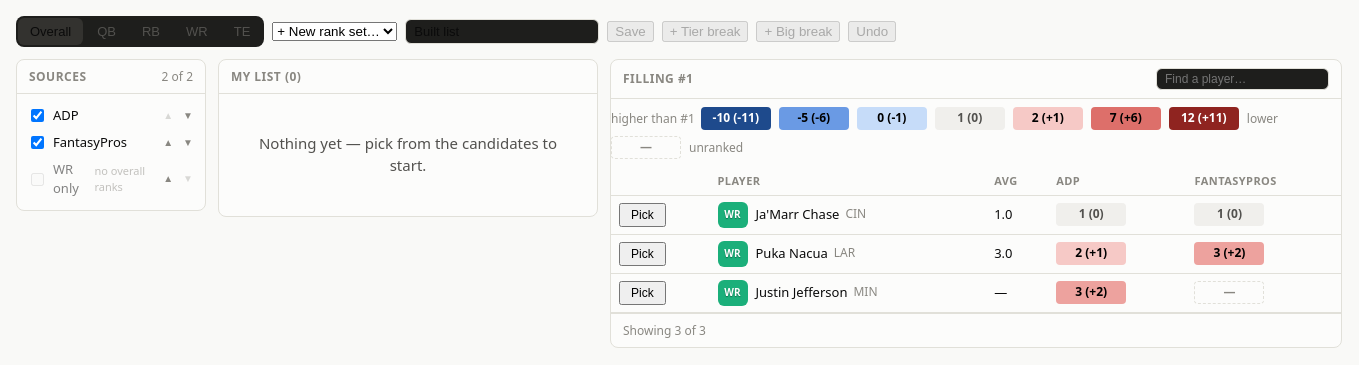
Test: BuildPage › adds a tier break after the last pick from the toolbar
Expected: the text "Ja'Marr Chase" is shown, top-left (756, 204), bottom-right (840, 222)
Expected: the column heading "FantasyPros" is shown, top-left (1186, 167), bottom-right (1341, 195)
Click the button "Pick" in the row of "Ja'Marr Chase".
click(642, 214)  # box top-left (619, 202), bottom-right (666, 226)
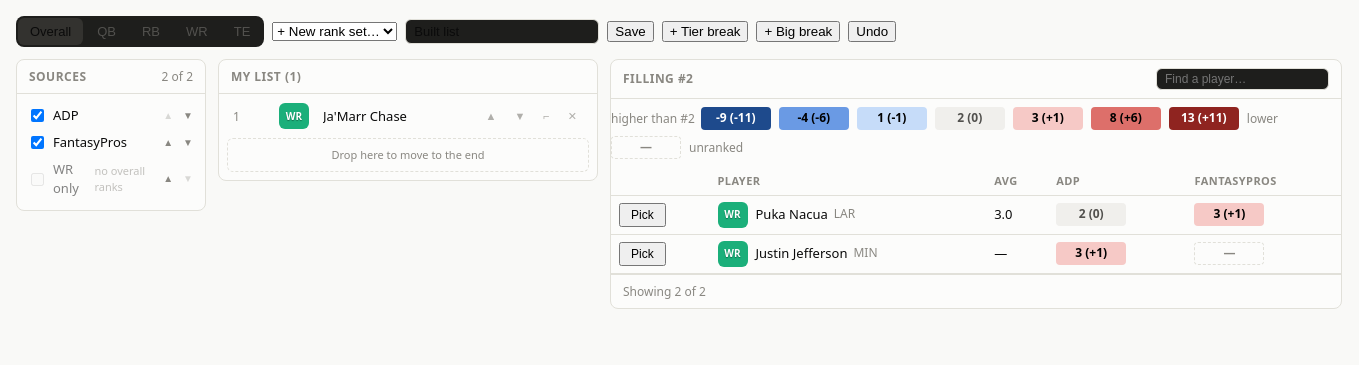
Expected: the text "My list (1)" is shown, top-left (219, 60), bottom-right (597, 94)
Click the button "+ Tier break".
click(705, 32)  # box top-left (662, 21), bottom-right (748, 42)
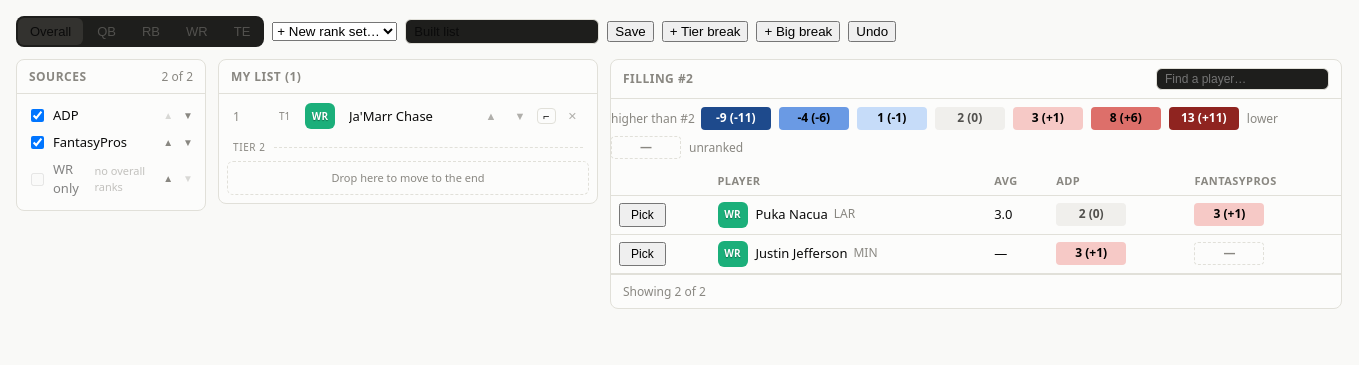
Expected: the text "Tier 2" is shown, top-left (233, 140), bottom-right (266, 155)
